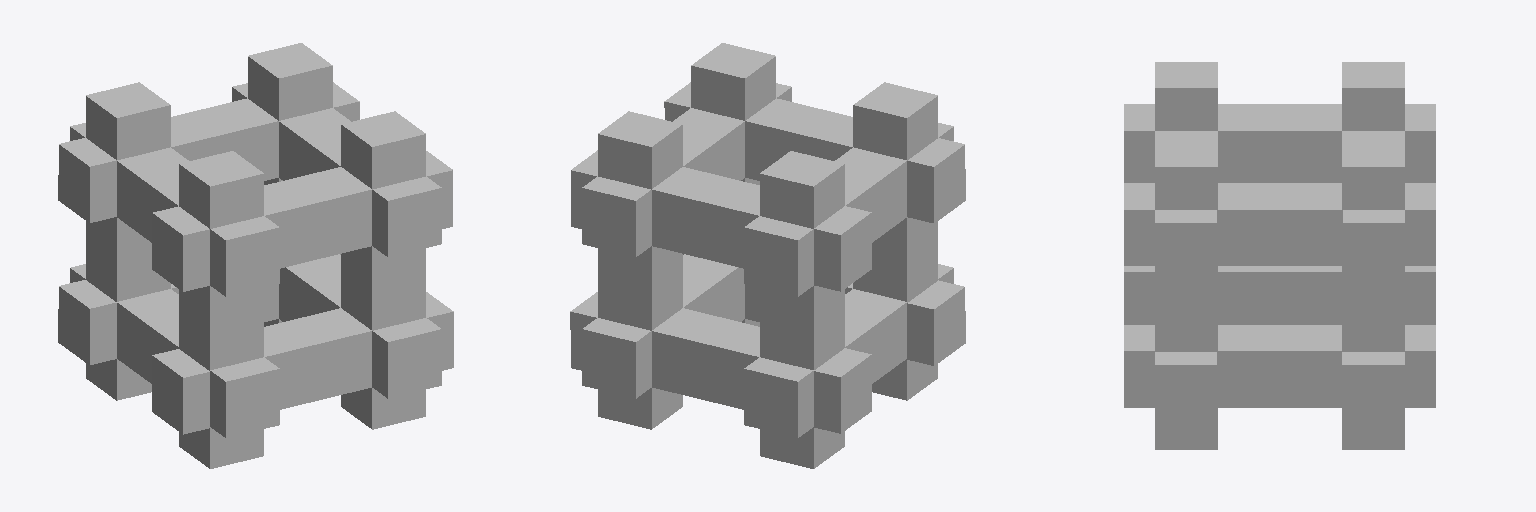
File: bridge_block.obj
3 views of the same model, side by side, from view 1: azimuth 30°, elevation 25°; view 2: azimuth 150°, elevation 25°; view 3: azimuth 270°, elevation 25° (orthographic).
Visible parts, largest first — view 1: bridge_block2.9; view 2: bridge_block2.9; view 3: bridge_block2.9.
Part boxes in pixels (x1,y1,x2,y2): bridge_block2.9: (58, 43, 453, 468); bridge_block2.9: (570, 43, 965, 468); bridge_block2.9: (1124, 62, 1435, 449).
Size of the model in its own units: 1 by 1 by 1.